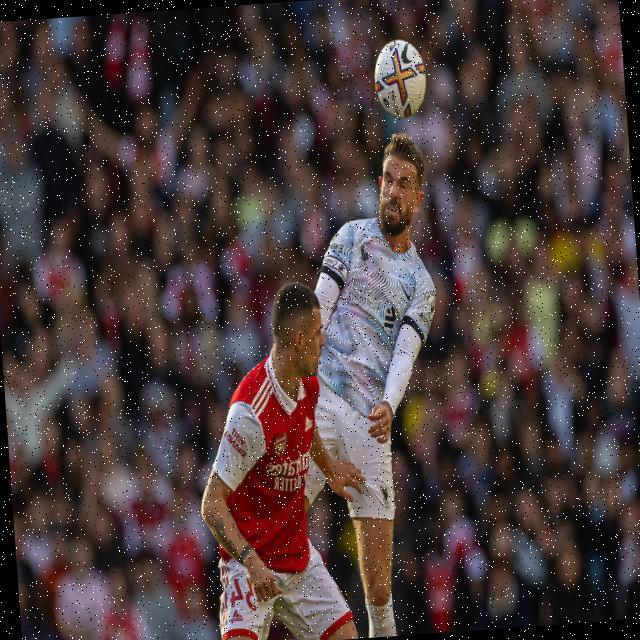Adidas: (228, 608, 244, 624), (303, 414, 314, 432)
Emirates: (265, 443, 315, 476)
Nike: (396, 274, 412, 301)
